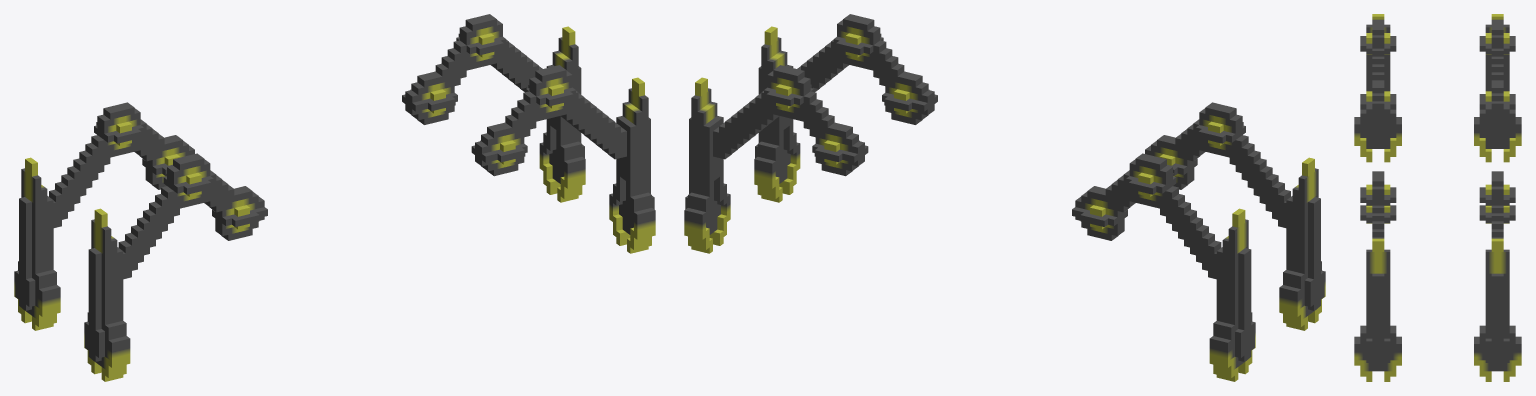
File: Enemy-7-DogLegsMed.fbx
3 renders of one model, left to right at view 1: azimuth 30°, elevation 25°; view 2: azimuth 150°, elevation 25°; view 3: azimuth 270°, elevation 25°, orthographic. The views are drawn at different scales.
Parts seen in each view (by area): view 1: DogLegsMed; view 2: DogLegsMed; view 3: DogLegsMed.
Boxes of the visible parts, x1,y1,x2,y2 form: DogLegsMed: (14,14,655,381); DogLegsMed: (684,14,1325,381); DogLegsMed: (1354,14,1521,381).
Bounding box in the file's own units: 92 × 31 × 28.
Materials: 1 (1 with a texture image).
